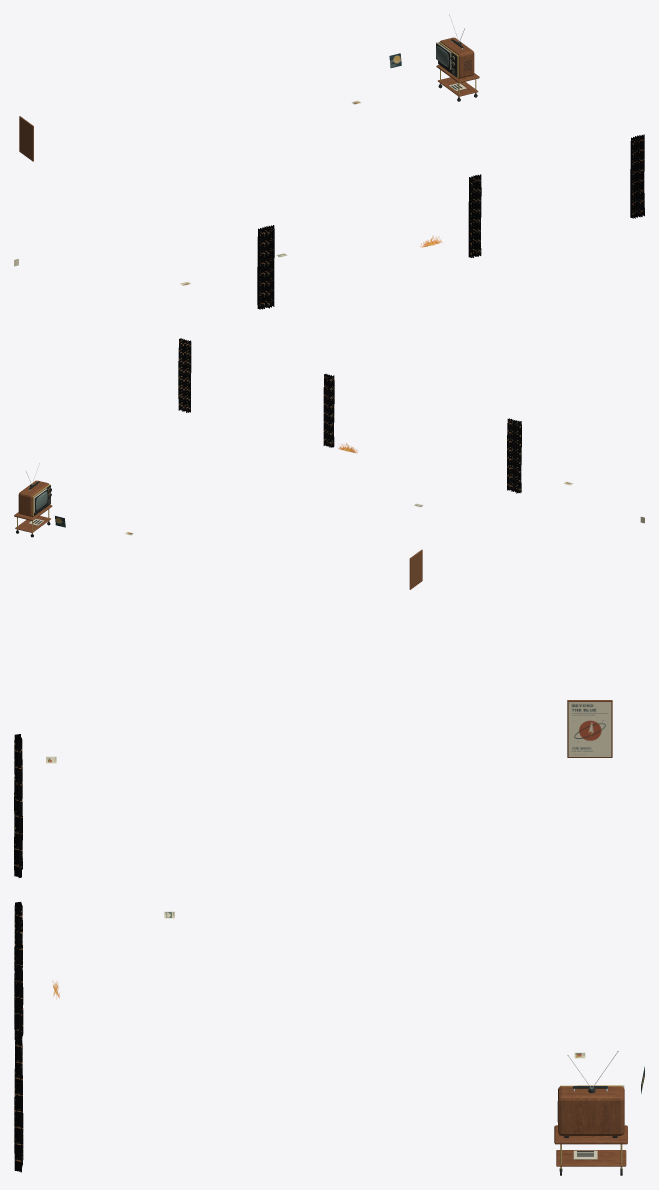
Rendered from details.glb.
3 renders of one model, top to bottom at view 1: azimuth 30°, elevation 25°; view 2: azimuth 150°, elevation 25°; view 3: azimuth 270°, elevation 25°, orthographic. The views are drawn at different scales.
Parts seen in each view (by area): view 1: Living west original printed linen face, TV trolley upper tray, Space poster narrow walnut frame, TV trolley caster; view 2: Living west original printed linen face, TV trolley upper tray, Space poster narrow walnut frame; view 3: TV trolley upper tray, Living west original printed linen face, 1958 Beyond the Blue space poster.
Part boxes in pixels (box(x1,y1,x2,y2)): Living west original printed linen face: box(257, 134, 644, 309); TV trolley upper tray: box(436, 37, 479, 96); Space poster narrow walnut frame: box(19, 116, 33, 161); TV trolley caster: box(436, 39, 477, 101); Living west original printed linen face: box(178, 338, 521, 493); TV trolley upper tray: box(14, 480, 52, 532); Space poster narrow walnut frame: box(409, 549, 422, 589); TV trolley upper tray: box(554, 1086, 627, 1166); Living west original printed linen face: box(14, 734, 23, 1172); 1958 Beyond the Blue space poster: box(568, 702, 611, 756).
Bounding box in the file's own units: 17.28 × 2.4 × 10.03.
Materials: 16 (9 with a texture image).
